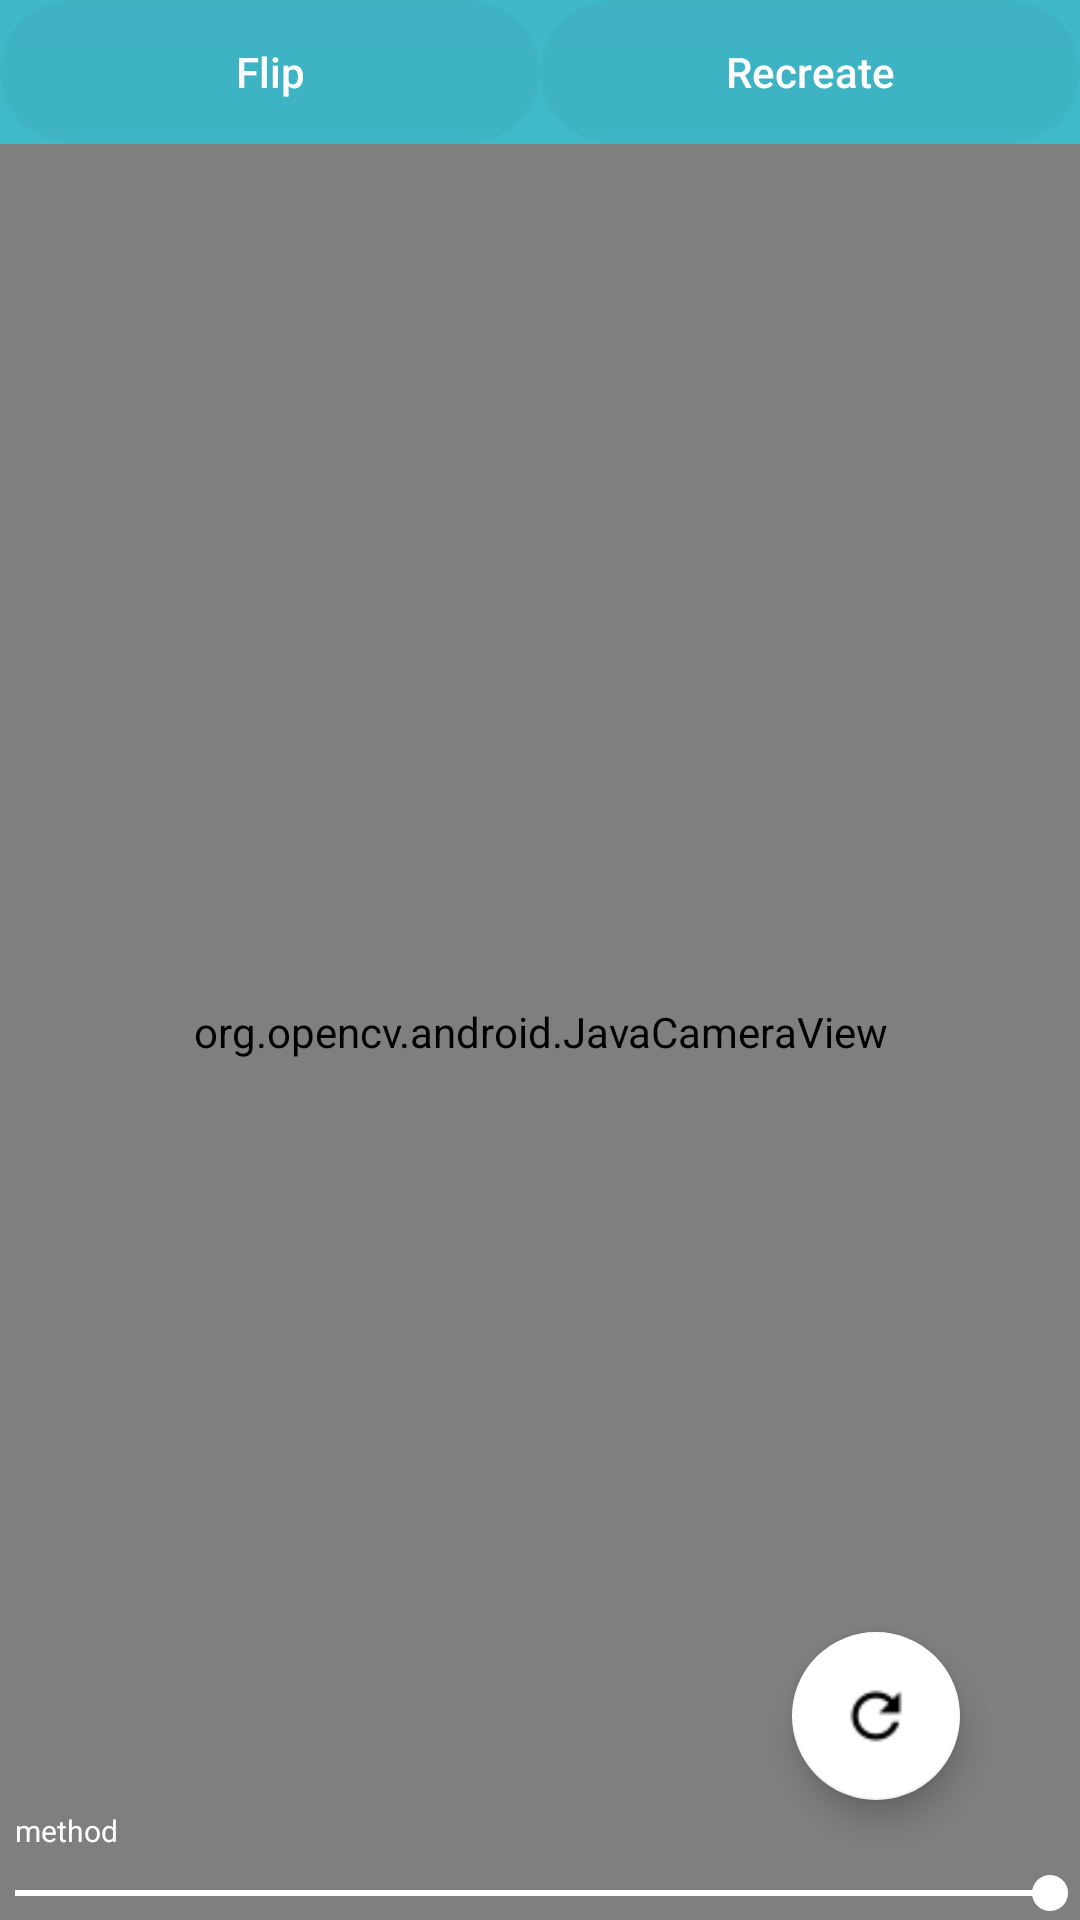

Where to tap for icons on this 1080w x 1920h app screen, as [x,y]:
refresh: [876,1716]
